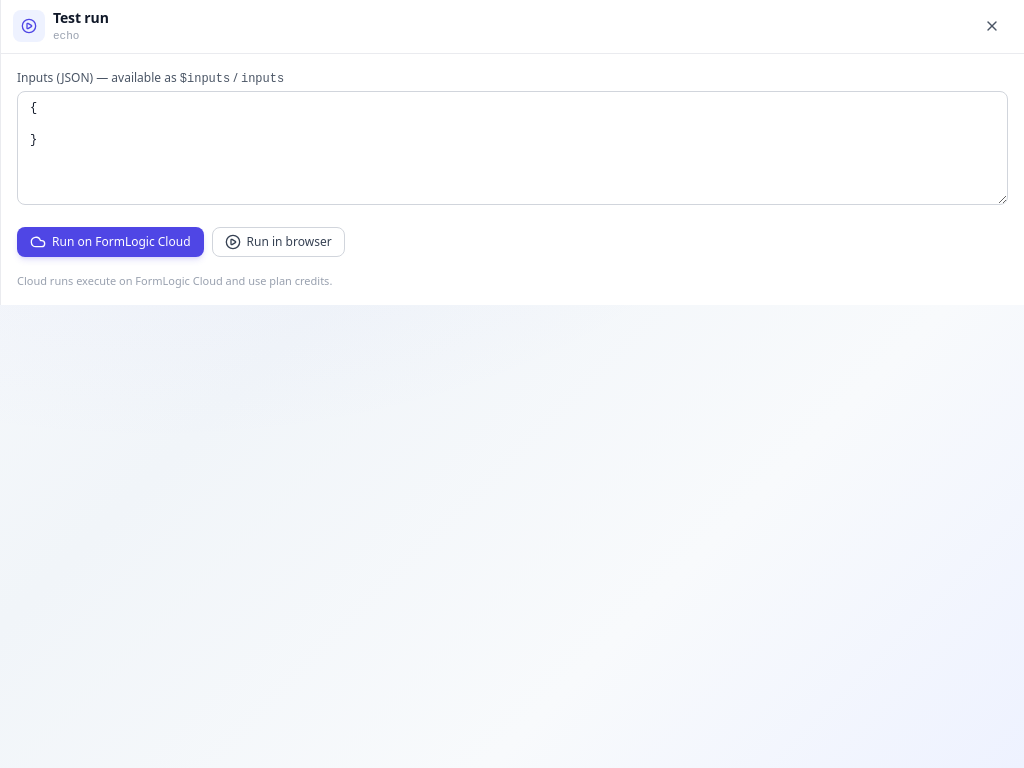
Test: TestRunDrawer — run dispatch per executionLocation › cloud: runs the cloud endpoint and renders the executed location
Click the button "Run on FormLogic Cloud": (110, 242) [17,226,204,256]
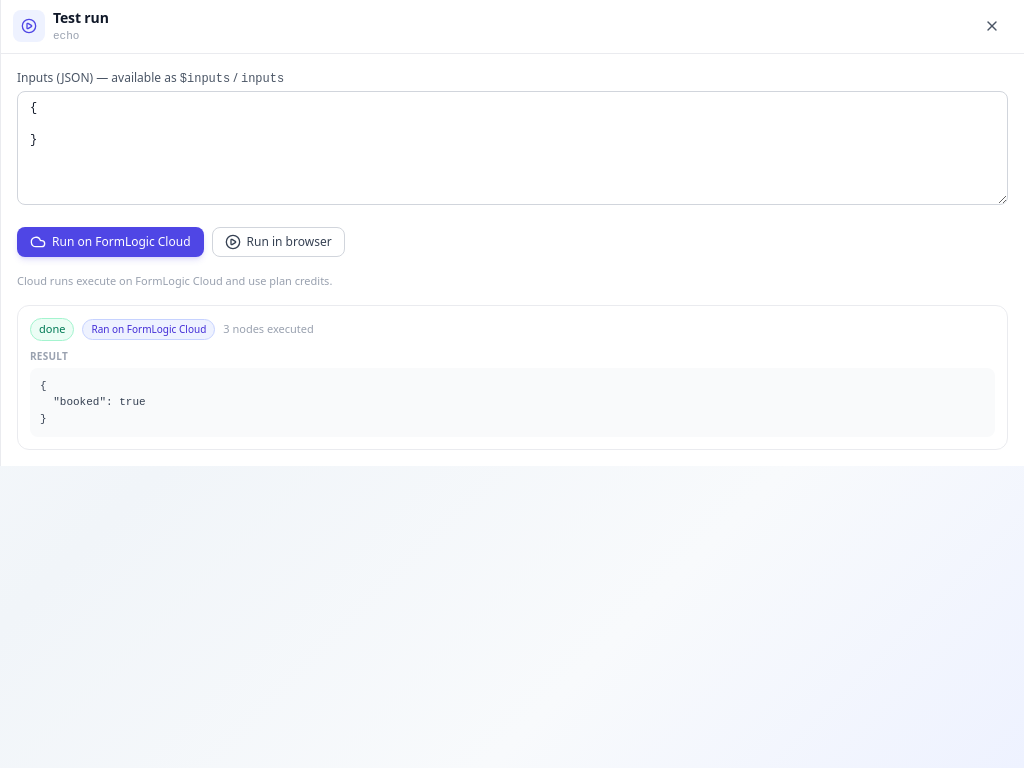
Result: the text "Ran on FormLogic Cloud" is shown at [82,319,215,340]
Result: the text "\"booked\": true" is shown at [40,380,146,424]
Result: the text "3 nodes executed" is shown at [223,321,314,338]
